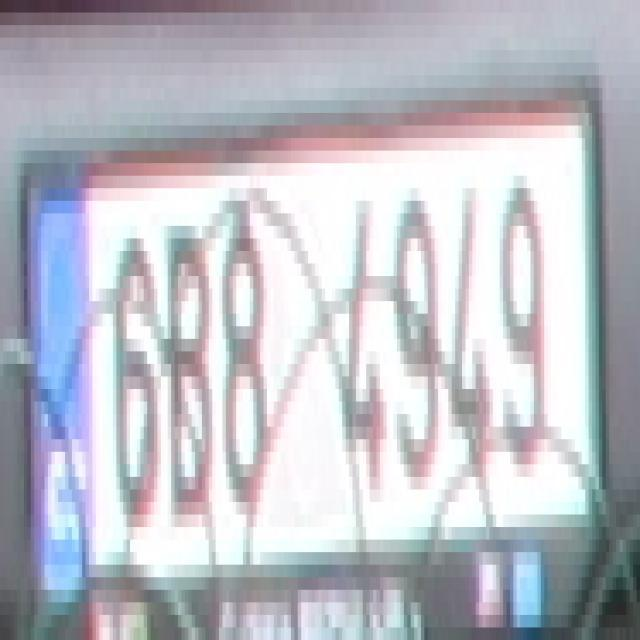4: (448, 176, 500, 502), (342, 200, 387, 514)
6: (113, 226, 161, 514)
8: (219, 213, 267, 490)
9: (390, 188, 438, 464), (503, 188, 548, 464)
B: (161, 213, 212, 514)
